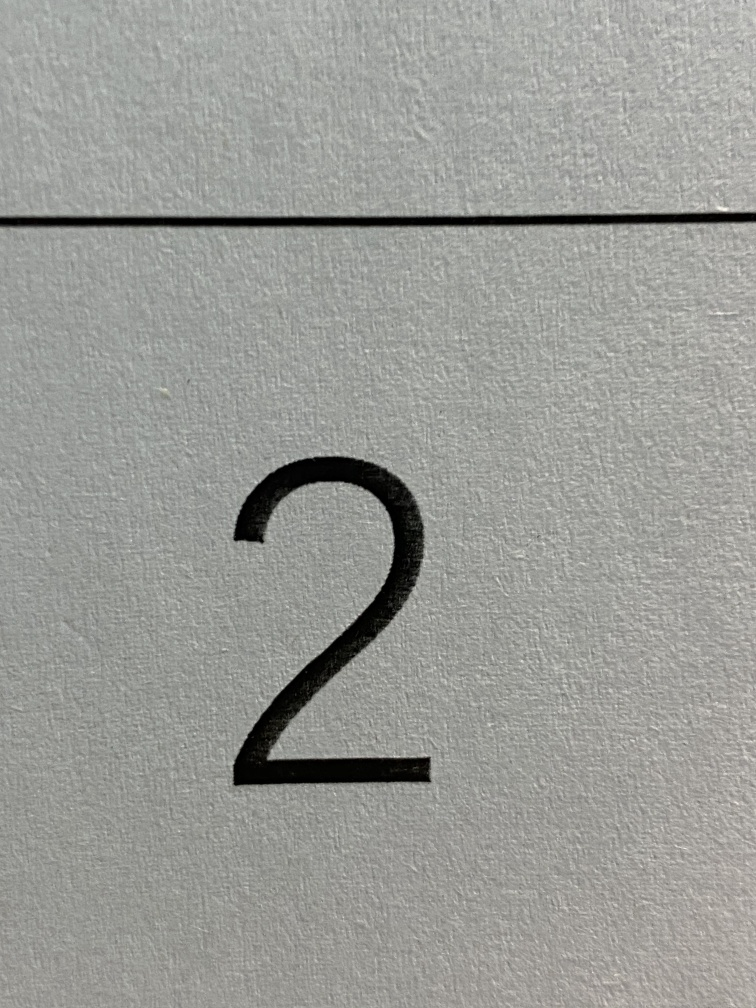two: (164, 379, 519, 872)
